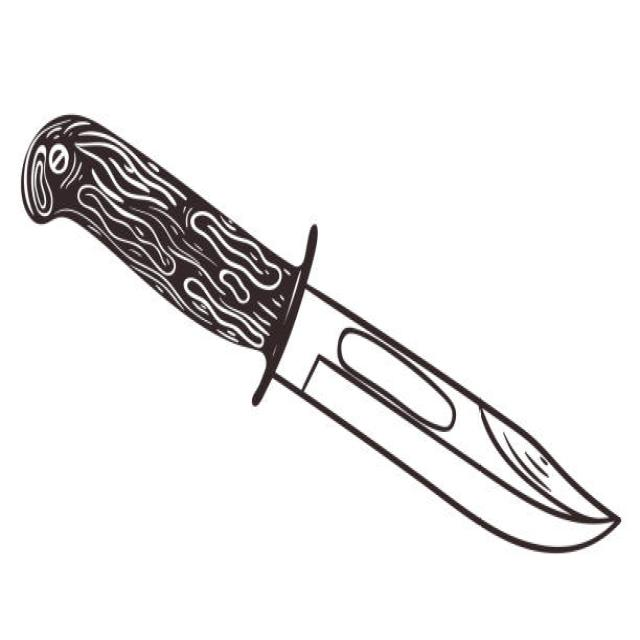knife: (17, 105, 632, 573)
